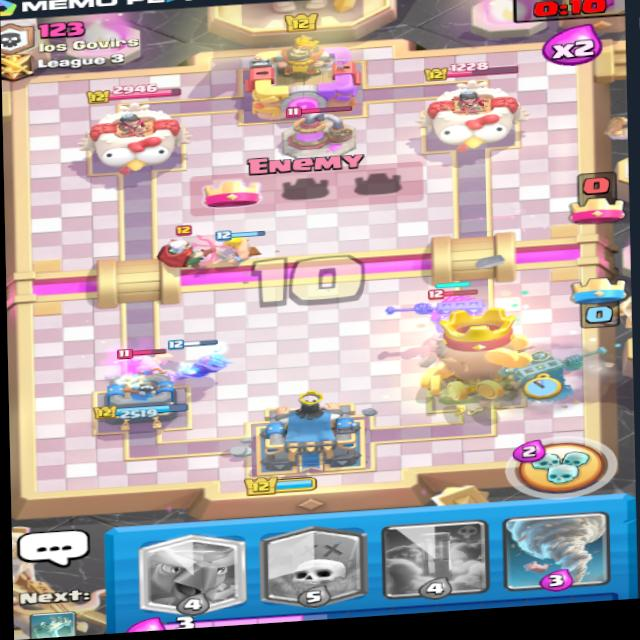barbarian: (125, 341, 181, 381)
elixir-collector: (262, 106, 372, 174)
magic-archer: (142, 222, 208, 278)
skeleton-king: (396, 282, 500, 357)
